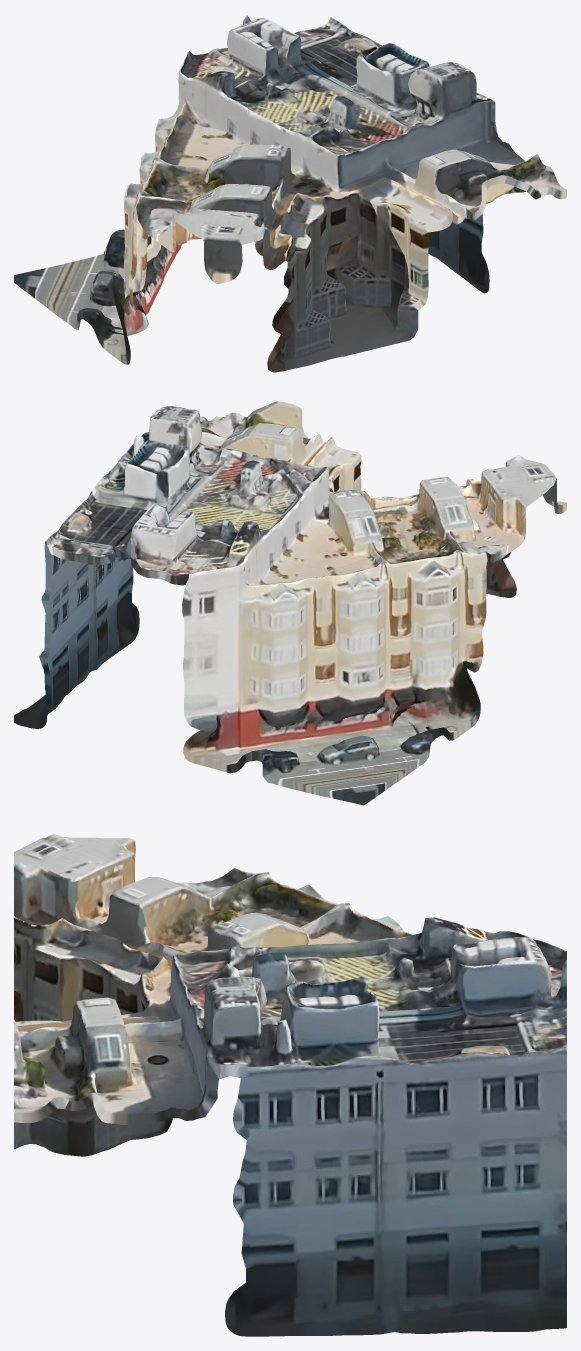
The model's file is z20-167730-405191-h0-yup-uvflip-v3-world.glb.
3 views of the same model, one above another, from view 1: azimuth 30°, elevation 25°; view 2: azimuth 150°, elevation 25°; view 3: azimuth 270°, elevation 25° (orthographic). The views are drawn at different scales.
Size of the model in its own units: 30.16 by 19.56 by 30.32.
Materials: 1 (1 with a texture image).
